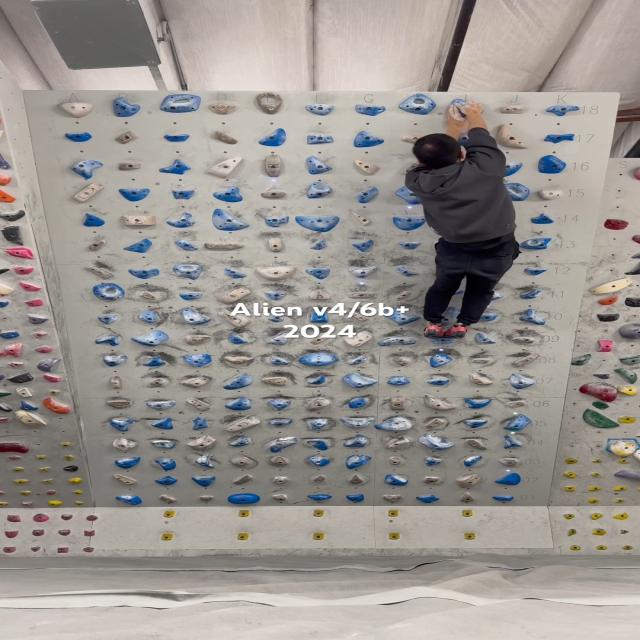A1: (115, 494, 143, 506)
A10: (97, 314, 119, 324)
A11: (93, 282, 125, 300)
A12: (86, 266, 114, 280)
A13: (88, 240, 106, 251)
A14: (82, 213, 105, 227)
A15: (72, 182, 105, 203)
A16: (70, 159, 104, 179)
A17: (65, 132, 92, 142)
A18: (59, 101, 95, 119)
A2: (112, 474, 137, 486)
A3: (114, 456, 141, 469)
A4: (112, 437, 139, 450)
A5: (110, 418, 134, 432)
A6: (107, 400, 131, 409)
A7: (111, 376, 123, 389)
A8: (103, 355, 129, 367)
A9: (95, 335, 119, 346)
B1: (158, 494, 178, 503)
B10: (138, 310, 158, 324)
B11: (140, 291, 156, 300)
B12: (128, 269, 160, 279)
B13: (124, 238, 152, 254)
B14: (122, 215, 156, 227)
B15: (119, 188, 150, 201)
B16: (118, 161, 143, 171)
B17: (115, 130, 139, 144)
B18: (113, 98, 140, 118)
B2: (154, 476, 178, 486)
B3: (154, 458, 177, 471)
B4: (150, 440, 176, 449)
B5: (151, 417, 174, 430)
B6: (146, 400, 177, 410)
B7: (149, 378, 167, 387)
B8: (142, 356, 166, 367)
B9: (131, 330, 169, 347)
C1: (199, 495, 214, 501)
C10: (180, 307, 212, 325)
C11: (178, 292, 202, 300)
C12: (174, 264, 204, 279)
C13: (173, 239, 198, 251)
C14: (166, 212, 196, 228)
C15: (172, 190, 195, 200)
C16: (158, 159, 191, 175)
C17: (164, 134, 190, 142)
C18: (159, 94, 201, 113)
C2: (192, 476, 216, 488)
C3: (194, 454, 215, 468)
C4: (185, 434, 217, 450)
C5: (192, 417, 208, 430)
C6: (186, 398, 210, 411)
C7: (180, 374, 212, 388)
C8: (183, 353, 212, 367)
C9: (185, 336, 211, 345)
D1: (227, 494, 260, 504)
D11: (218, 286, 252, 304)
D12: (223, 267, 247, 279)
D13: (204, 242, 245, 250)
D14: (212, 208, 249, 231)
D15: (212, 185, 243, 202)
D16: (205, 155, 243, 179)
D17: (211, 131, 239, 145)
D18: (208, 104, 239, 115)
D2: (233, 474, 253, 484)
D3: (234, 457, 250, 466)
D4: (229, 436, 251, 447)
D5: (224, 415, 260, 432)
D6: (225, 396, 252, 410)
D7: (221, 374, 255, 391)
D8: (224, 356, 255, 364)
D9: (228, 333, 248, 344)
E1: (272, 494, 288, 501)
E11: (264, 292, 286, 301)
E12: (256, 266, 296, 280)
E13: (268, 238, 282, 252)
E14: (264, 216, 290, 228)
E15: (261, 191, 286, 198)
E16: (264, 154, 282, 178)
E17: (258, 128, 286, 147)
E18: (254, 92, 282, 115)
E2: (273, 476, 290, 486)
E3: (270, 456, 290, 466)
E4: (269, 437, 298, 452)
E5: (268, 418, 292, 426)
E6: (267, 398, 292, 411)
E7: (262, 377, 288, 386)
E8: (269, 355, 289, 366)
F: (238, 510, 251, 518), (312, 509, 325, 517), (164, 510, 176, 518), (162, 533, 174, 541), (313, 532, 325, 540), (462, 509, 474, 517), (389, 532, 400, 540), (237, 533, 249, 540), (387, 509, 399, 516), (464, 533, 476, 540)
F1: (307, 494, 332, 501)
F11: (309, 289, 330, 299)
F12: (306, 268, 330, 280)
F13: (310, 239, 329, 251)
F14: (294, 215, 340, 232)
F15: (306, 182, 332, 199)
F16: (305, 156, 331, 175)
F17: (306, 135, 334, 145)
F18: (304, 104, 335, 116)
F2: (313, 475, 326, 483)
F3: (305, 456, 330, 466)
F4: (306, 438, 328, 451)
F5: (310, 418, 330, 429)
F6: (305, 397, 330, 411)
F7: (308, 374, 326, 385)
F8: (298, 352, 340, 366)
G1: (345, 493, 365, 502)
G11: (347, 292, 375, 298)
G12: (347, 266, 378, 278)
G13: (352, 239, 374, 252)
G14: (351, 212, 372, 227)
G15: (354, 186, 378, 204)
G16: (353, 159, 381, 176)
G17: (354, 131, 385, 148)
G18: (355, 104, 386, 116)
G2: (348, 474, 363, 484)
G3: (345, 454, 372, 470)
G4: (342, 434, 368, 448)
G5: (341, 416, 374, 429)
G6: (348, 397, 370, 409)
G7: (342, 372, 378, 388)
G8: (345, 355, 368, 366)
H1: (382, 494, 402, 501)
H11: (394, 291, 412, 301)
H12: (396, 266, 419, 276)
H13: (397, 240, 421, 250)
H14: (392, 216, 426, 230)
H18: (398, 93, 436, 115)
H2: (384, 473, 408, 486)
H3: (388, 457, 402, 465)
H4: (385, 436, 410, 449)
H5: (374, 416, 412, 431)
H6: (387, 396, 407, 410)
H7: (387, 376, 410, 386)
H8: (391, 355, 409, 366)
H9: (377, 336, 418, 346)
I1: (415, 494, 439, 503)
I2: (423, 476, 440, 484)
I3: (423, 456, 442, 466)
I4: (419, 433, 454, 451)
I5: (425, 418, 444, 428)
I6: (423, 394, 456, 411)
I7: (427, 378, 450, 386)
I8: (429, 353, 453, 368)
J1: (458, 492, 474, 502)
J17: (495, 124, 529, 149)
J18: (499, 104, 530, 114)
J2: (455, 473, 482, 488)
J3: (463, 455, 482, 467)
J4: (466, 438, 489, 450)
J5: (462, 420, 488, 428)
J6: (464, 397, 491, 409)
J7: (468, 374, 493, 386)
J8: (472, 358, 491, 363)
J9: (474, 333, 496, 344)
K1: (492, 495, 515, 502)
K10: (519, 309, 545, 325)
K11: (520, 289, 542, 299)
K12: (523, 268, 548, 276)
K13: (519, 238, 551, 250)
K14: (530, 213, 554, 224)
K15: (539, 189, 563, 201)
K16: (537, 155, 567, 174)
K17: (543, 134, 575, 144)
K18: (546, 105, 580, 116)
K2: (494, 472, 522, 487)
K3: (498, 458, 520, 466)
K4: (503, 434, 524, 448)
K5: (504, 413, 531, 431)
K6: (508, 400, 526, 408)
K7: (508, 373, 534, 389)
K8: (511, 353, 540, 367)
K9: (512, 336, 534, 343)
